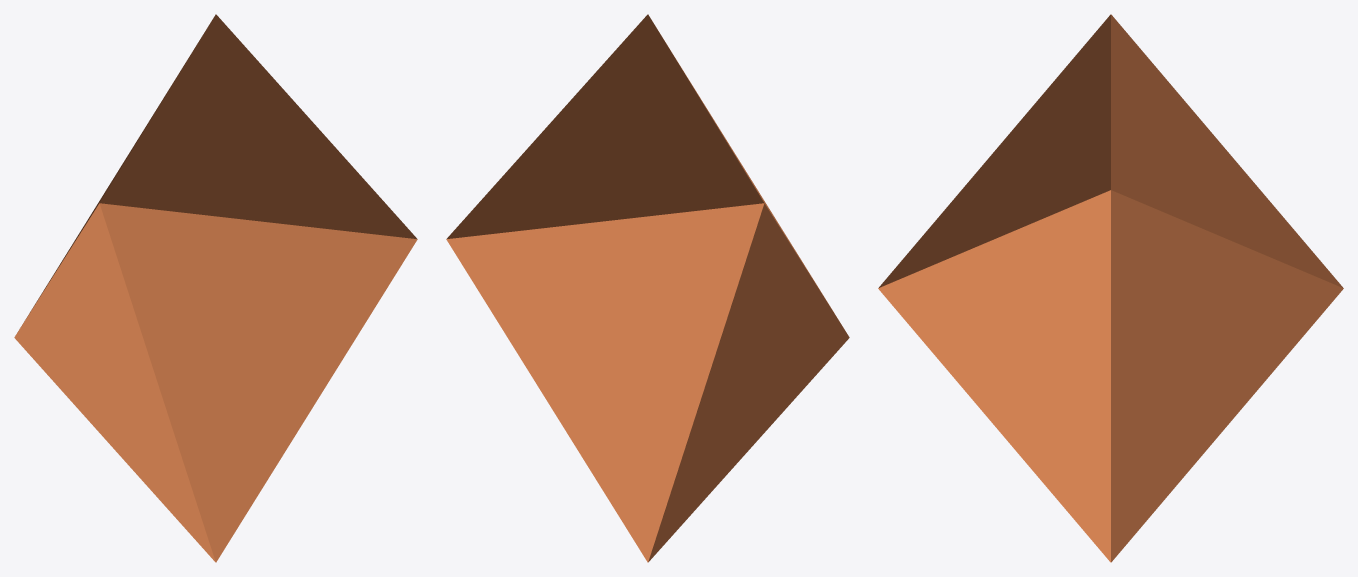
File: volcanic-explosion.glb
3 renders of one model, left to right at view 1: azimuth 30°, elevation 25°; view 2: azimuth 150°, elevation 25°; view 3: azimuth 270°, elevation 25°, orthographic.
Size of the model in its own units: 2 by 2.6 by 2.
